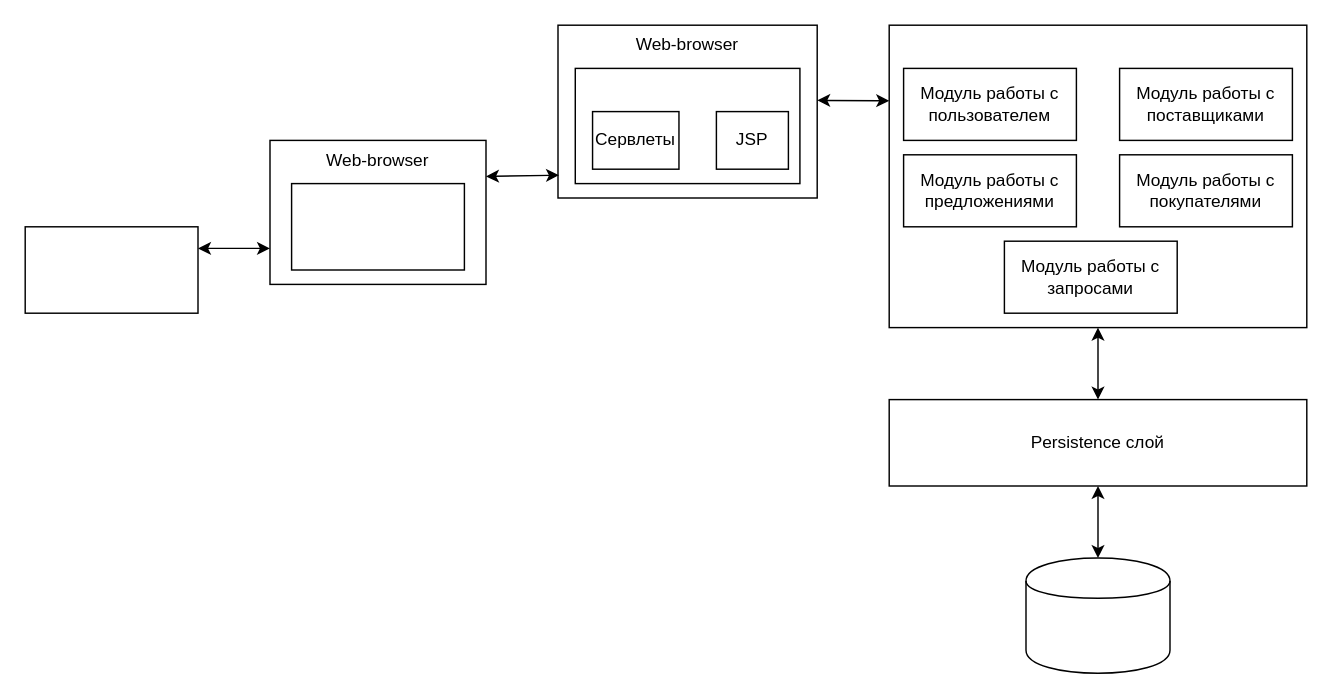
Some shapes in this 1332 by 698 pixel diagram are drawn without their labels. Here are the shapes that lost their labels. From the top down, the box of each, then its label:
(574, 67, 800, 184): Web-контейнер
(888, 24, 1307, 328): Business objects
(290, 182, 464, 270): HTML/CSS
(24, 225, 198, 313): Пользователь
(1025, 557, 1170, 673): БД
